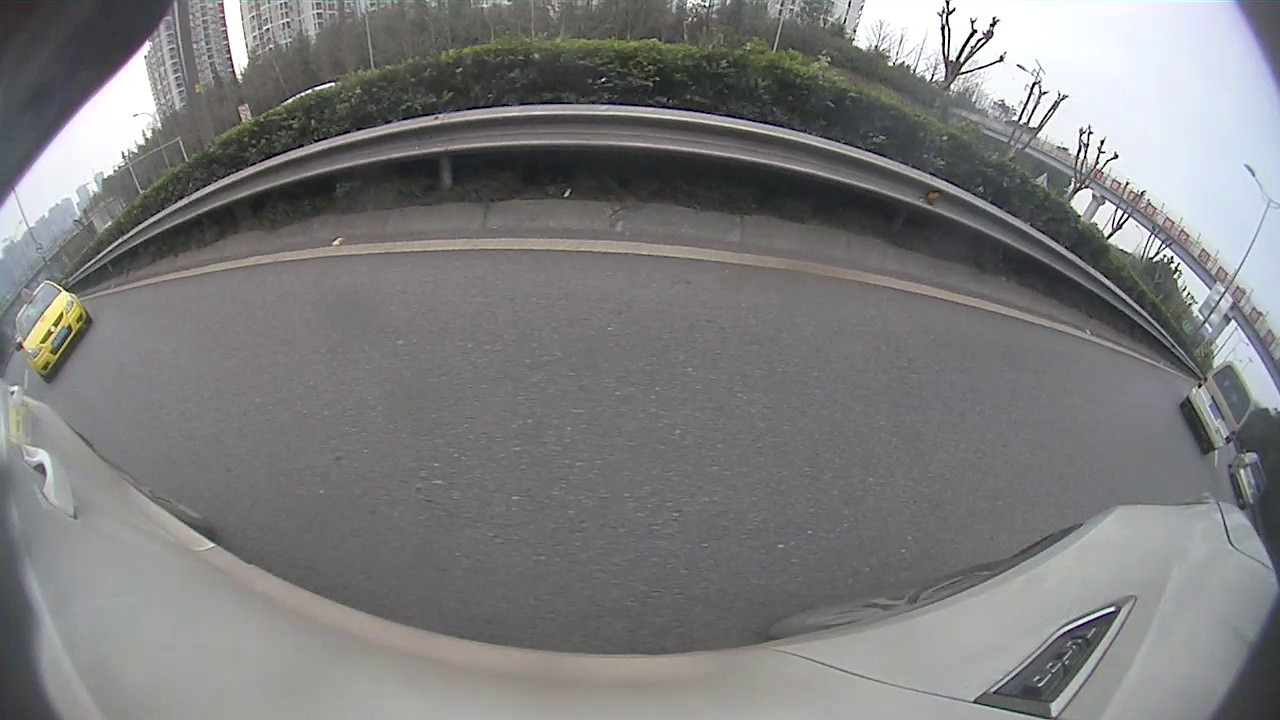car: (10, 275, 91, 383), (1181, 358, 1257, 453), (1230, 451, 1265, 511)
